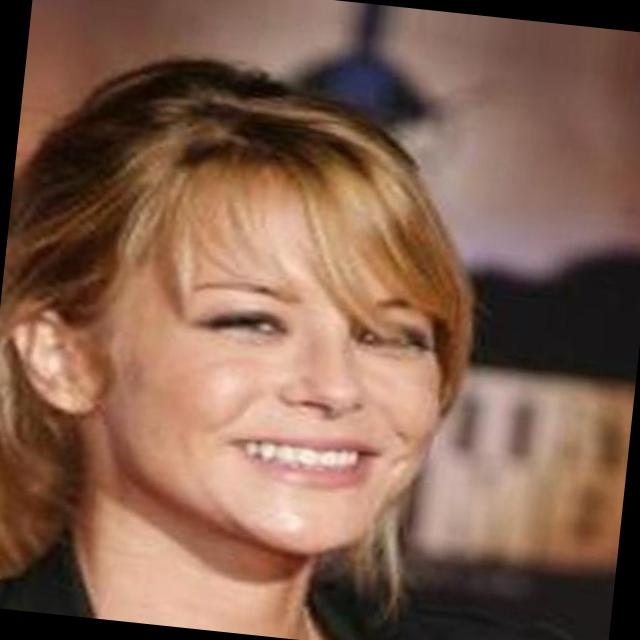bareface: (12, 70, 470, 558)
